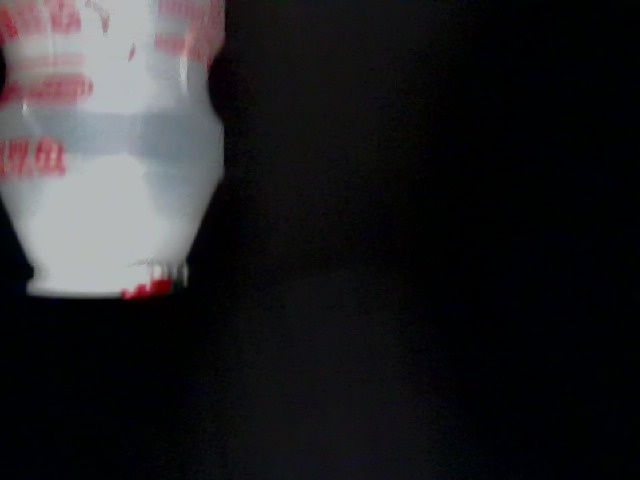CYLJ: (551, 126, 640, 239)
